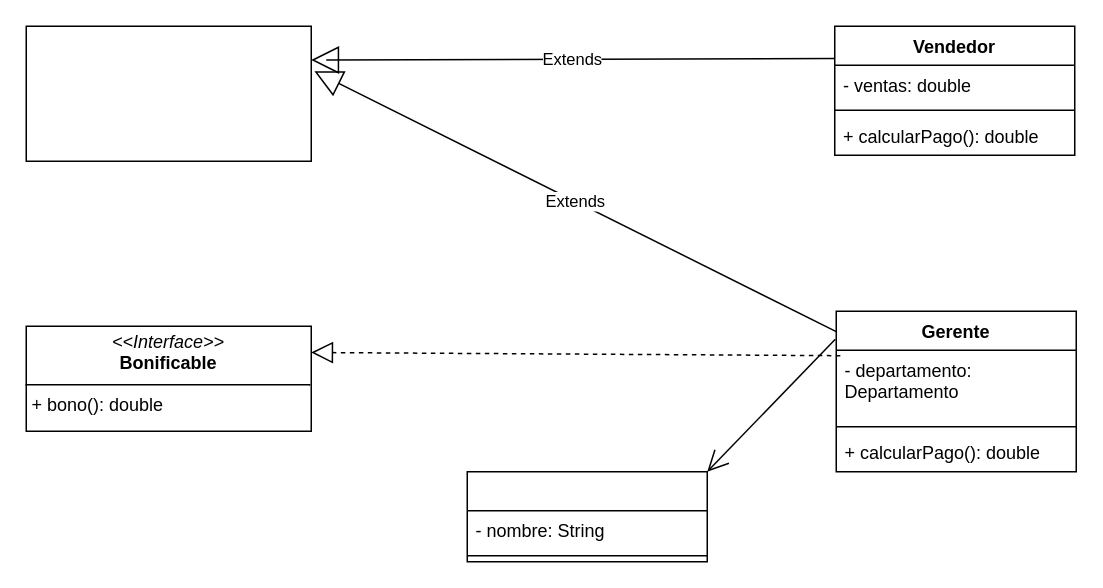
This 1103x588 diagram has some shape labels left out. The shapes that lost their labels are listed below. From the top down, each one's box as (x1, y1, x2, y2) in pixels, then its label:
(25, 25, 311, 161): {abstract} Empleado # nombre: String + calcularPago(): double
(466, 470, 707, 562): Departamento
